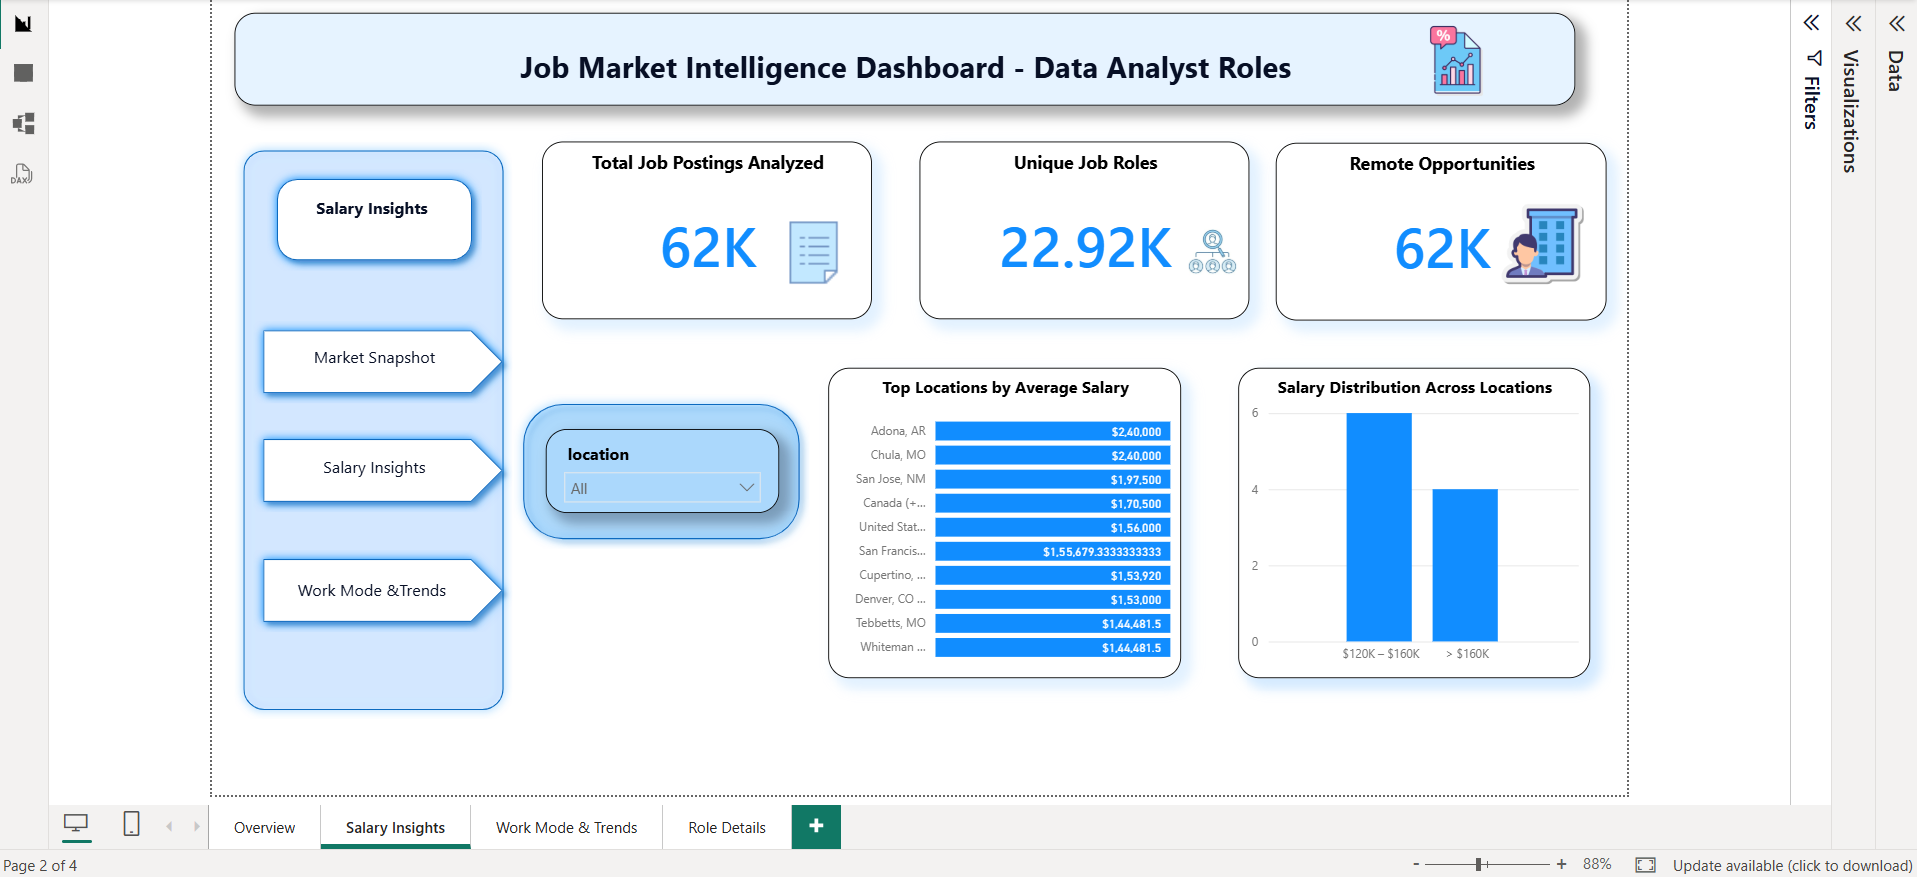

What the dashboard file says about the page in this screenshot:
{"tool":"powerbi","page":{"name":"Salary Insights","canvas":[1280,720],"ordinal":1},"visuals":[{"type":"barChart","title":"Top Locations by Average Salary","fields":{"Category":["avg_salary_by_location.location"],"Y":["Sum(avg_salary_by_location.avg_salary)"]},"box":[556.9,333.3,319.4,280.6],"z":0},{"type":"textbox","box":[20.8,12.5,1213,84],"z":1000},{"type":"image","box":[1087.5,12.5,76.4,87.5],"z":2000},{"type":"card","title":"Total Job Postings Analyzed","fields":{"Values":["Sum(job_count_by_title.job_count)"]},"box":[298.6,129.2,298.6,161.1],"z":3000},{"type":"card","title":"Unique Job Roles","fields":{"Values":["Count(job_count_by_title.title)"]},"box":[640.3,129.2,298.6,161.1],"z":4000},{"type":"card","title":"Remote Opportunities","fields":{"Values":["Sum(remote_vs_worktype.job_count)"]},"box":[962.1,129.7,299.3,161.1],"z":5000},{"type":"clusteredColumnChart","title":"Salary Distribution Across Locations","fields":{"Category":["avg_salary_by_location.Salary Band"],"Y":["CountNonNull(avg_salary_by_location.location)"]},"box":[927.8,333.3,318.1,280.6],"z":6000},{"type":"shape","box":[272.2,356.9,268.1,140.3],"z":7000},{"type":"slicer","fields":{"Values":["avg_salary_by_location.location"]},"box":[301.4,388.9,211.1,76.4],"z":8000},{"type":"shape","box":[20.8,129.2,251.4,522.2],"z":9000},{"type":"shape","box":[37.5,290.3,234.7,75],"z":10000},{"type":"shape","box":[37.5,388.9,234.7,75],"z":11000},{"type":"shape","box":[37.5,497.2,234.7,75],"z":12000},{"type":"shape","box":[50,154.2,194.4,91.7],"z":13000},{"type":"textbox","box":[65.3,173.6,158.3,55.6],"z":14000},{"type":"textbox","box":[50,308.3,194.4,36.1],"z":15000},{"type":"textbox","box":[50,408.3,194.4,37.5],"z":16000},{"type":"textbox","box":[65.3,519.4,158.3,36.1],"z":17000},{"type":"image","box":[459.7,193.1,168.1,72.2],"z":18000},{"type":"image","box":[872.2,193.1,66.7,72.2],"z":19000},{"type":"image","box":[1140.3,175,122.2,90.3],"z":20000}]}

Visuals, with their boxes on the page's 1280x720 design canvas (x1, y1, x2, y2). These are canvas units, not pixel positions in the 1917x877 screenshot, which may show the page scaled, cropped or inside an application window:
"Top Locations by Average Salary" barChart: x1=557, y1=333, x2=876, y2=614
textbox: x1=21, y1=12, x2=1234, y2=96
image: x1=1088, y1=12, x2=1164, y2=100
"Total Job Postings Analyzed" card: x1=299, y1=129, x2=597, y2=290
"Unique Job Roles" card: x1=640, y1=129, x2=939, y2=290
"Remote Opportunities" card: x1=962, y1=130, x2=1261, y2=291
"Salary Distribution Across Locations" clusteredColumnChart: x1=928, y1=333, x2=1246, y2=614
shape: x1=272, y1=357, x2=540, y2=497
slicer - avg_salary_by_location.location: x1=301, y1=389, x2=512, y2=465
shape: x1=21, y1=129, x2=272, y2=651
shape: x1=38, y1=290, x2=272, y2=365
shape: x1=38, y1=389, x2=272, y2=464
shape: x1=38, y1=497, x2=272, y2=572
shape: x1=50, y1=154, x2=244, y2=246
textbox: x1=65, y1=174, x2=224, y2=229
textbox: x1=50, y1=308, x2=244, y2=344
textbox: x1=50, y1=408, x2=244, y2=446
textbox: x1=65, y1=519, x2=224, y2=556
image: x1=460, y1=193, x2=628, y2=265
image: x1=872, y1=193, x2=939, y2=265
image: x1=1140, y1=175, x2=1262, y2=265
